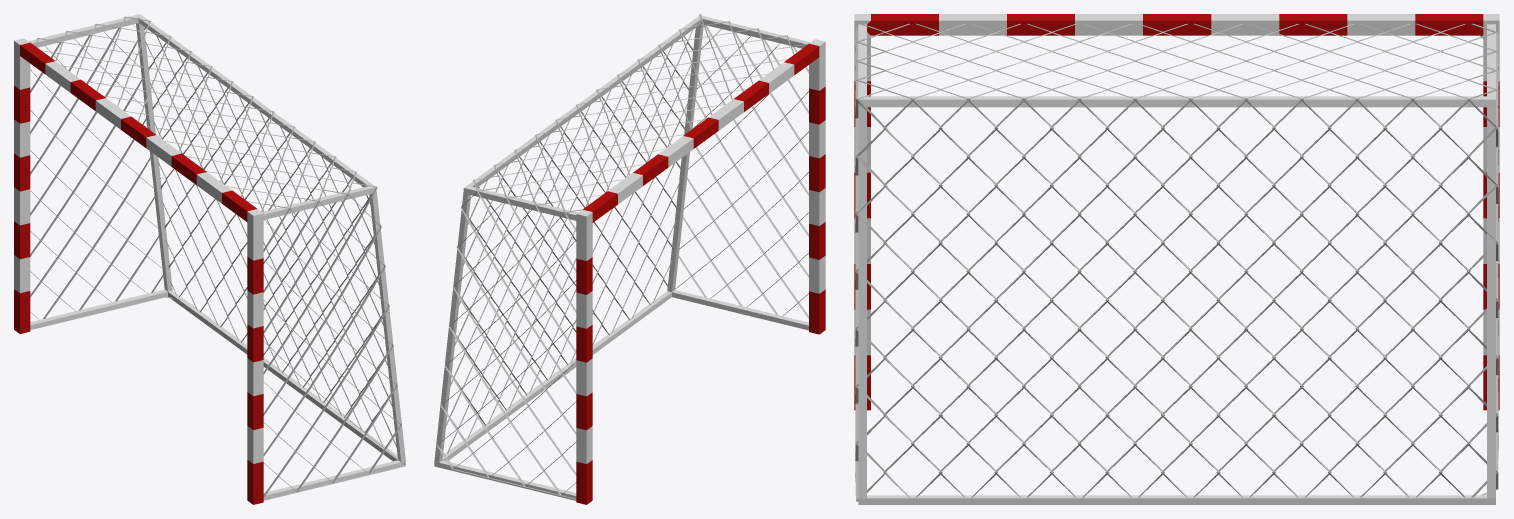
File: arco.fbx
3 renders of one model, left to right at view 1: azimuth 30°, elevation 25°; view 2: azimuth 150°, elevation 25°; view 3: azimuth 270°, elevation 25°, orthographic. The views are drawn at different scales.
Visible parts, largest first — view 1: PORTERIA, PORTERIA.001; view 2: PORTERIA, PORTERIA.001; view 3: PORTERIA, PORTERIA.001.
Boxes of the visible parts, left/top/right/bottom form: PORTERIA: left=14, top=14, right=405, bottom=504; PORTERIA.001: left=30, top=16, right=405, bottom=500; PORTERIA: left=434, top=15, right=825, bottom=504; PORTERIA.001: left=436, top=14, right=808, bottom=499; PORTERIA: left=854, top=14, right=1499, bottom=504; PORTERIA.001: left=855, top=23, right=1498, bottom=501.
Bounding box in the file's own units: 84.18 × 151 × 227.
